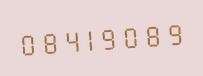eight: (38, 24, 58, 58), (143, 17, 163, 51)
four: (59, 22, 79, 57)
nine: (164, 15, 184, 50), (101, 20, 121, 54)
one: (80, 21, 100, 56)
zero: (17, 25, 37, 60), (122, 18, 142, 53)
